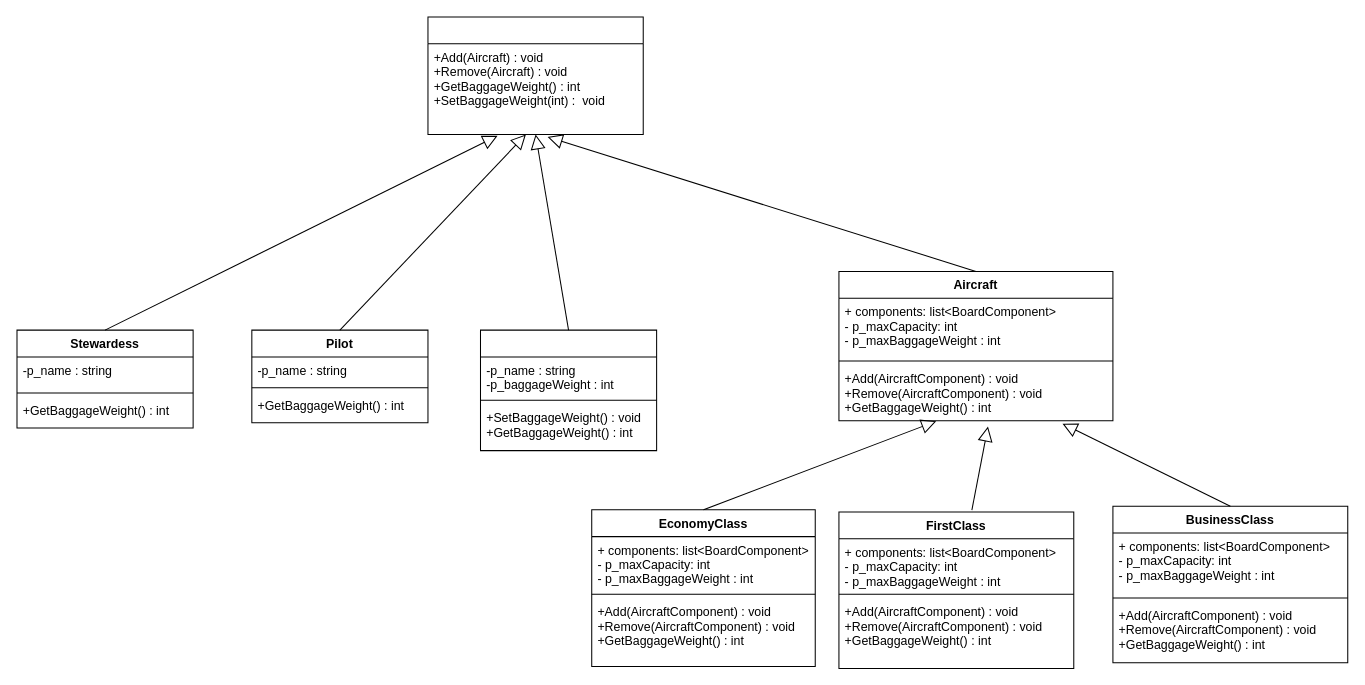
The diagram is 1365 pixels wide and 685 high, and some of its shapes have lost their labels. Each missing label, with the box of its shape:
BoardComponent: (427, 16, 643, 134)
Passenger: (479, 329, 657, 451)
